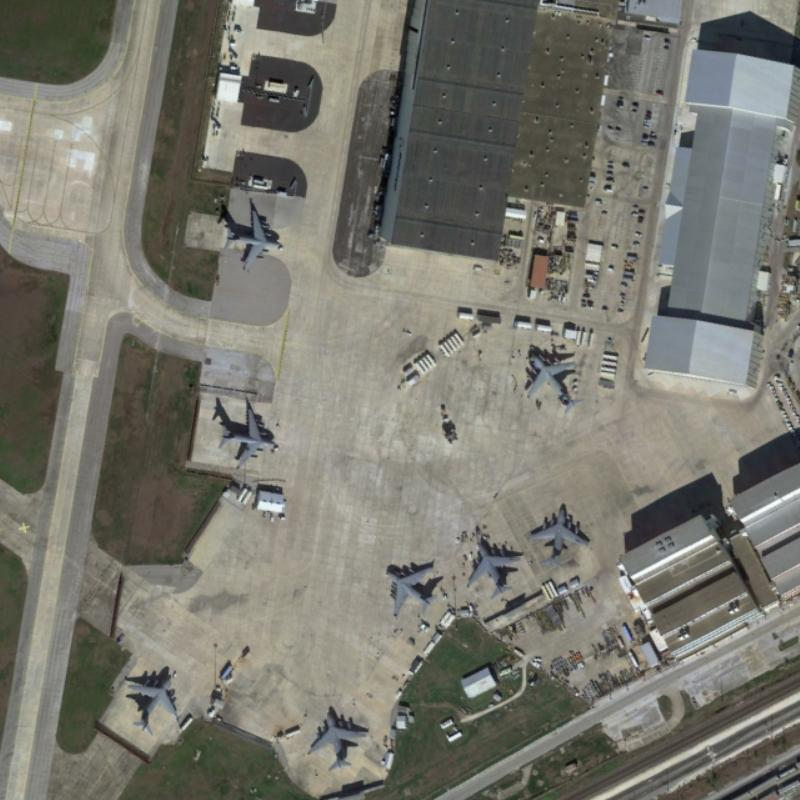A3: (211, 394, 279, 473), (521, 495, 592, 569), (120, 662, 188, 738), (520, 345, 591, 417), (303, 702, 374, 774), (219, 201, 286, 273), (462, 534, 527, 602), (379, 556, 442, 619)
